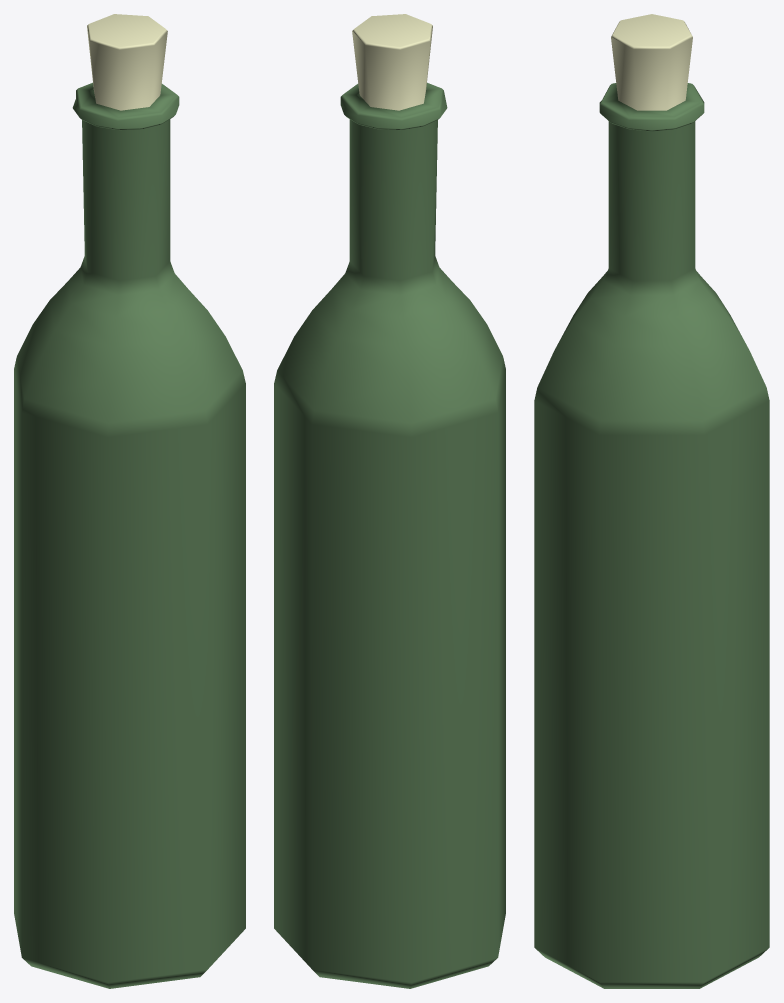
File: flaska.fbx
3 views of the same model, side by side, from view 1: azimuth 30°, elevation 25°; view 2: azimuth 150°, elevation 25°; view 3: azimuth 270°, elevation 25° (orthographic).
Parts seen in each view (by area): view 1: polySurface1564; view 2: polySurface1564; view 3: polySurface1564.
Part boxes in pixels (bbox=[...]): polySurface1564: bbox=[14, 14, 245, 988]; polySurface1564: bbox=[274, 14, 505, 988]; polySurface1564: bbox=[534, 14, 769, 988].
Bounding box in the file's own units: 0.8293 × 3.66 × 0.8507.
